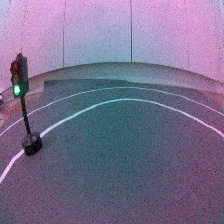green: (8, 52, 44, 158)
